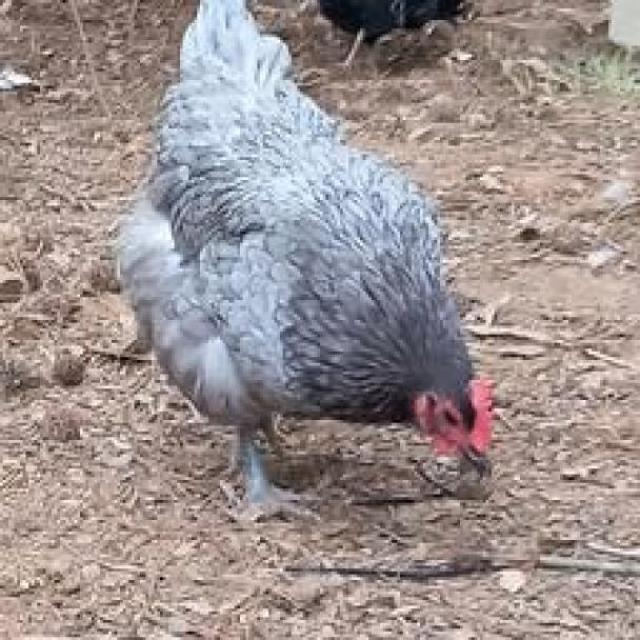Chicken: (103, 0, 517, 535)
